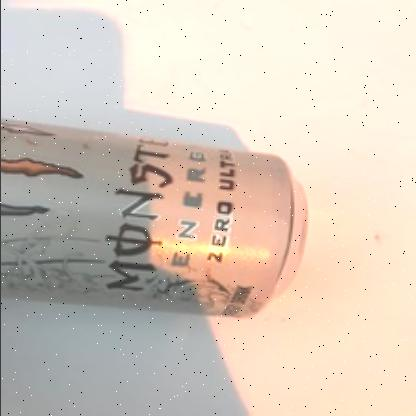Can: (0, 121, 310, 318)
